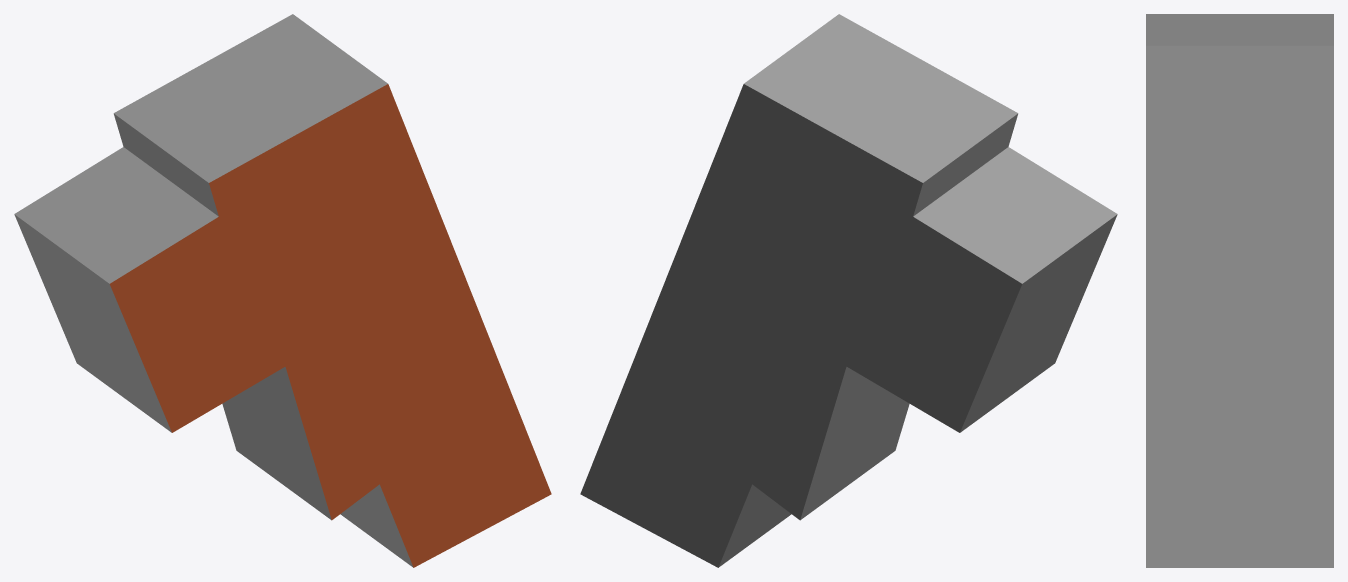
The model's file is construction_4580_assumed_A_Casa_h6m.obj.
3 renders of one model, left to right at view 1: azimuth 30°, elevation 25°; view 2: azimuth 150°, elevation 25°; view 3: azimuth 270°, elevation 25°, orthographic.
Parts seen in each view (by area): view 1: construction_4580_assumed_A_Casa; view 2: construction_4580_assumed_A_Casa; view 3: construction_4580_assumed_A_Casa.
Part boxes in pixels (x1,y1,x2,y2): construction_4580_assumed_A_Casa: (14, 14, 551, 567); construction_4580_assumed_A_Casa: (580, 14, 1117, 567); construction_4580_assumed_A_Casa: (1146, 14, 1333, 567).
Size of the model in its own units: 16.06 by 17.02 by 6.
